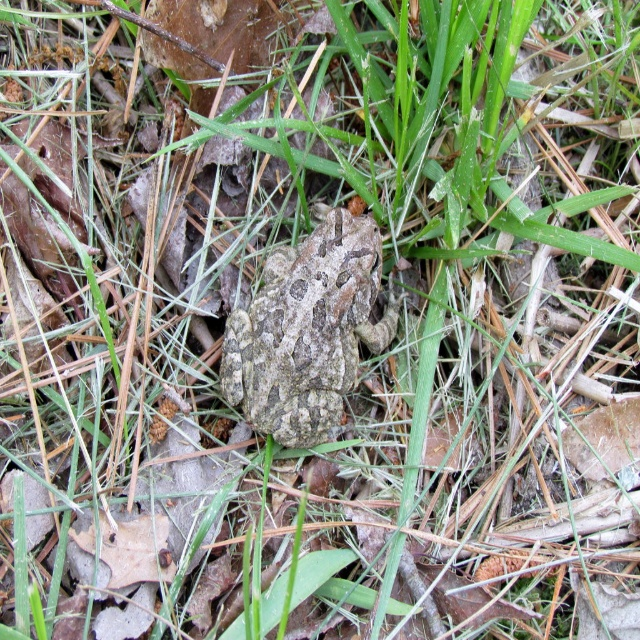Frog: (217, 201, 411, 452)
